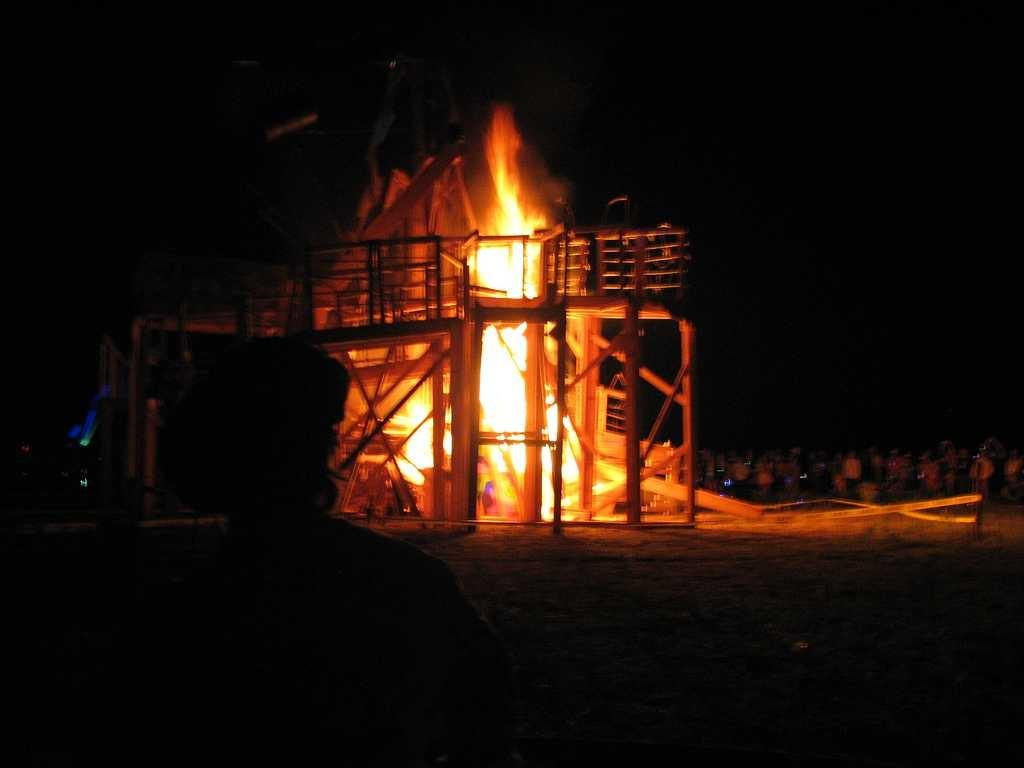fire: (485, 198, 538, 295), (487, 327, 523, 433), (407, 405, 430, 470), (490, 445, 525, 482)
